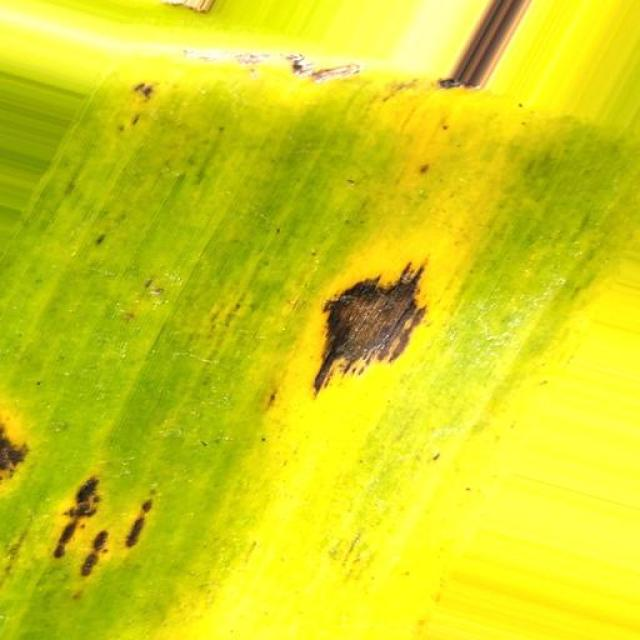Early_rust: (0, 391, 174, 609), (291, 233, 458, 404), (90, 58, 170, 151)
